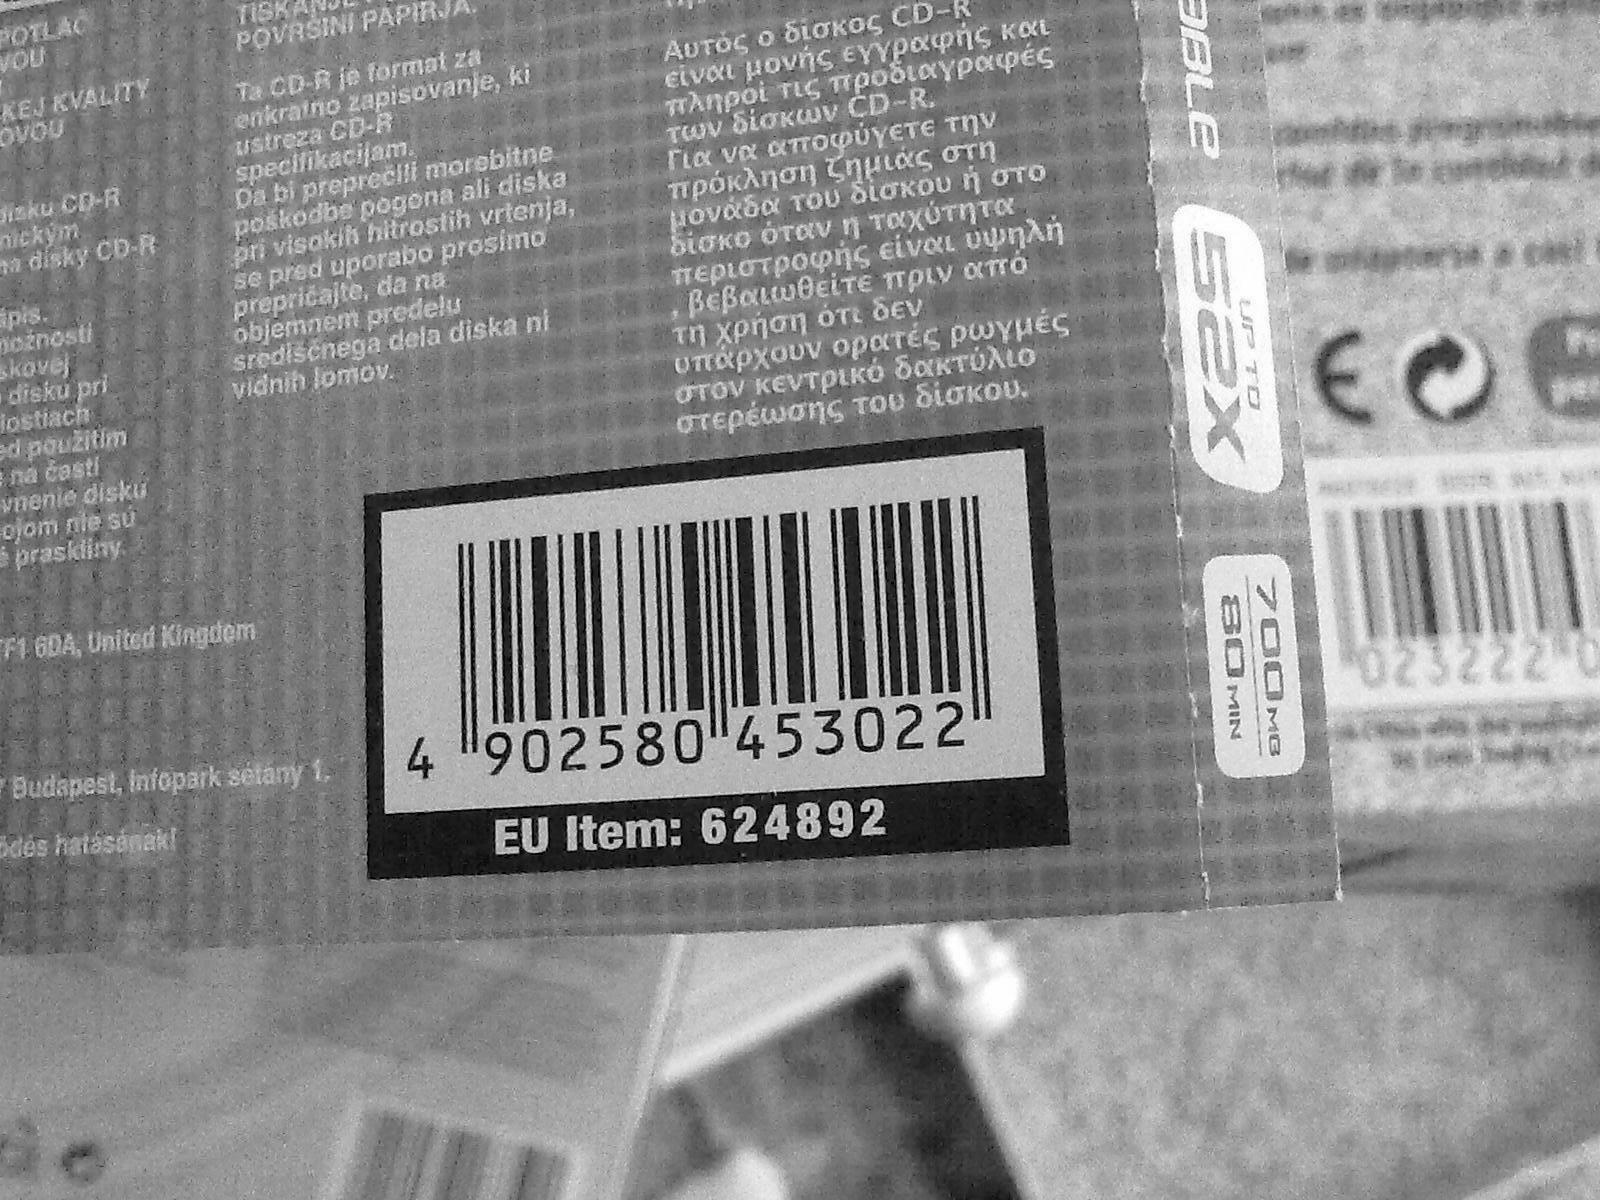Barcode: (380, 516, 1029, 782)
